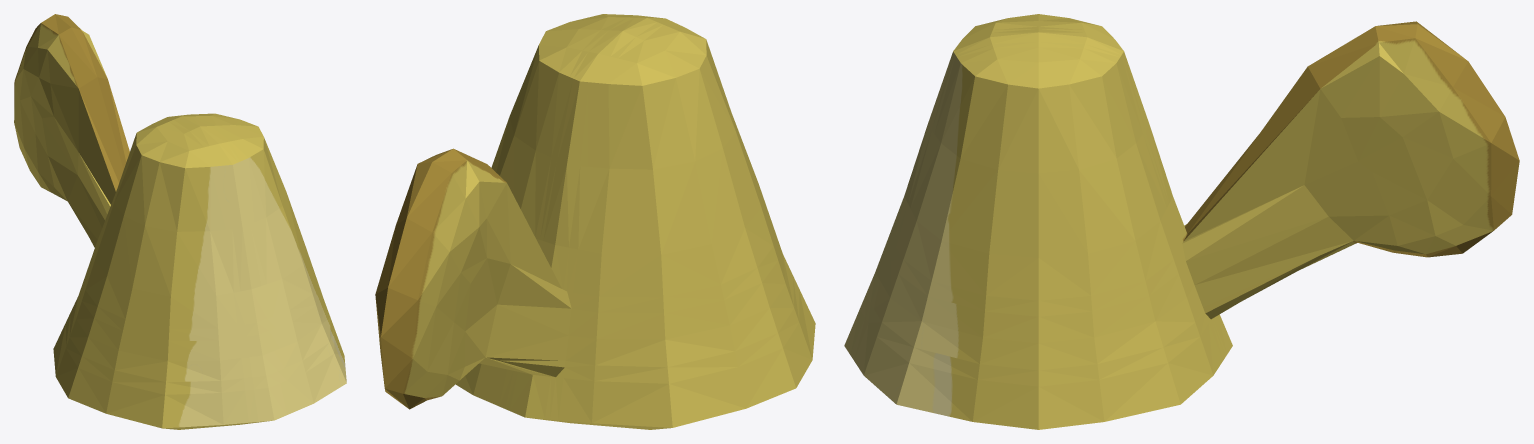
Rendered from float_Body_E.obj.
The picture shows the model from 3 angles, left to right: view 1: azimuth 30°, elevation 25°; view 2: azimuth 150°, elevation 25°; view 3: azimuth 270°, elevation 25°; orthographic projection. The views are drawn at different scales.
Visible parts, largest first — view 1: 立方体.001; view 2: 立方体.001; view 3: 立方体.001.
Part boxes in pixels (box(x1,y1,x2,y2)): 立方体.001: box(14, 14, 346, 429); 立方体.001: box(375, 14, 815, 429); 立方体.001: box(844, 14, 1519, 429).
Bounding box in the file's own units: 1.45 × 1.48 × 2.46.
